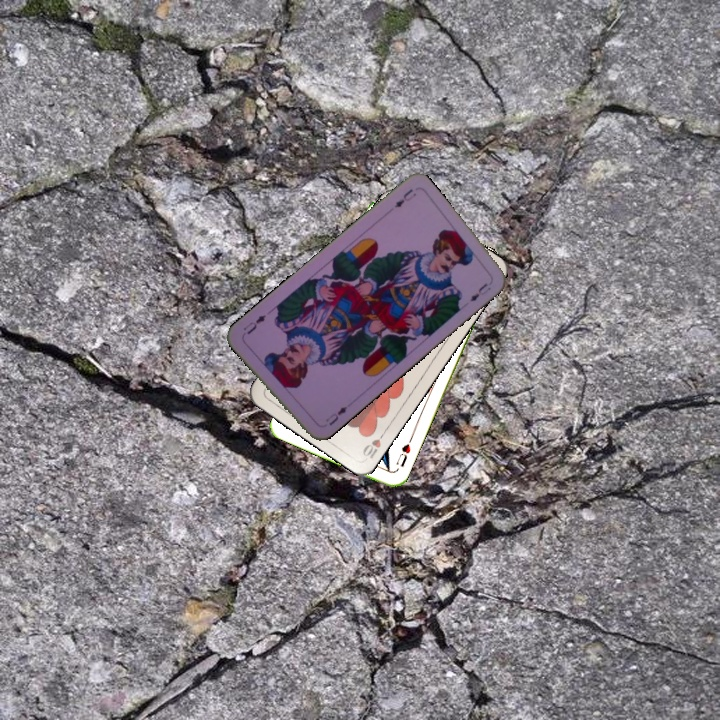EU: (321, 402, 350, 428), (391, 185, 419, 210)
H10: (358, 426, 389, 462)
HU: (392, 439, 413, 470)
